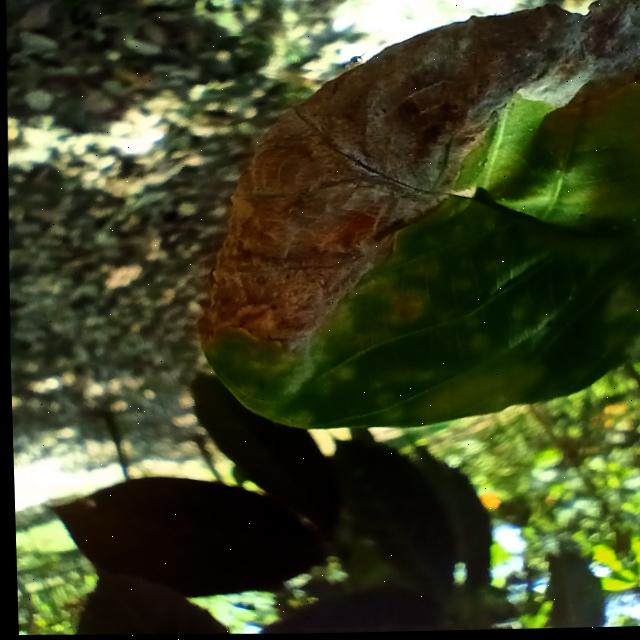Leaf-Blight: (185, 0, 640, 362)
